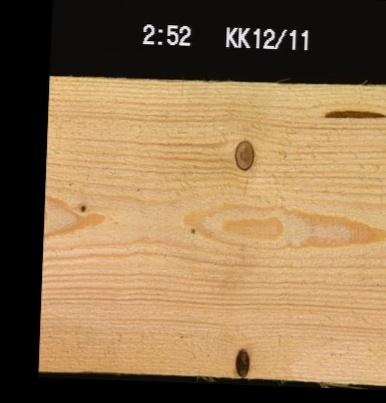dry_knot: (231, 137, 254, 170)
small_knot: (183, 222, 200, 239), (76, 200, 88, 216)
